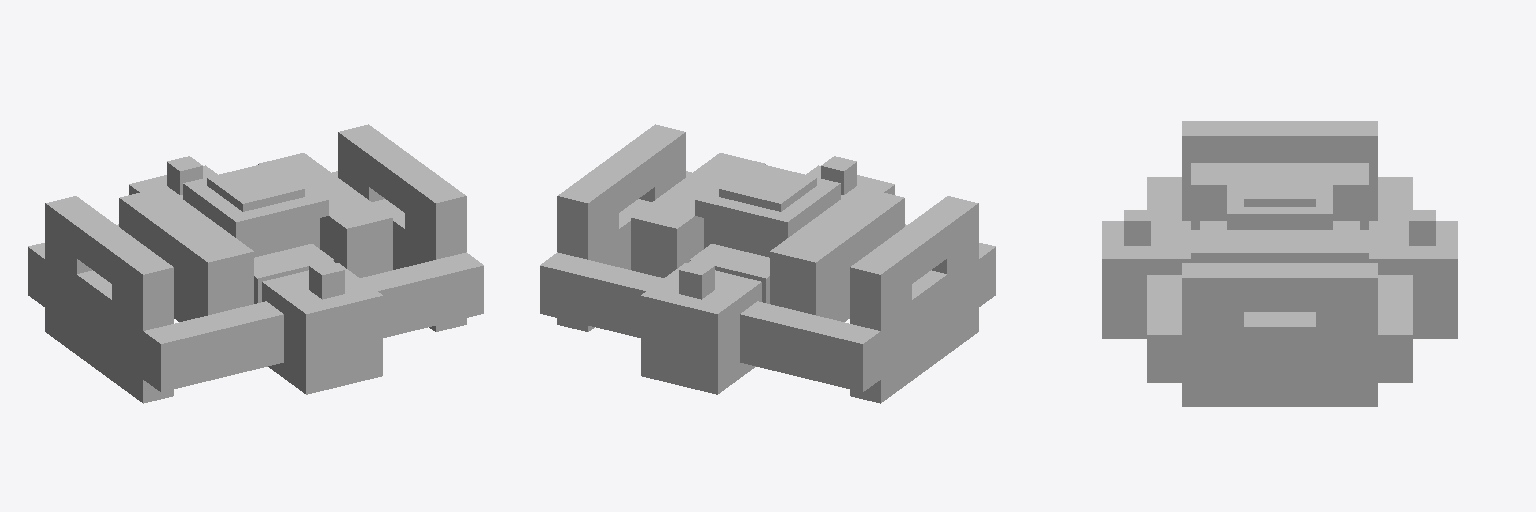
File: frame.obj
3 renders of one model, left to right at view 1: azimuth 30°, elevation 25°; view 2: azimuth 150°, elevation 25°; view 3: azimuth 270°, elevation 25°, orthographic.
Parts seen in each view (by area): view 1: cube_11, cube_3, cube_19, cube_7, cube_9, cube_13, cube_18, cube_1, cube_0, cube_15, cube_16, cube_17 (+8 smaller); view 2: cube_6, cube_2, cube_19, cube_7, cube_9, cube_13, cube_18, cube_1, cube_0, cube_15, cube_16, cube_17 (+8 smaller); view 3: cube_15, cube_13, cube_9, cube_2, cube_3, cube_18, cube_6, cube_11, cube_19, cube_1, cube_0, cube_12 (+4 smaller).
Part boxes in pixels (left/top/right/bottom): cube_11: left=143, top=252, right=483, bottom=391; cube_3: left=262, top=263, right=382, bottom=394; cube_19: left=119, top=186, right=253, bottom=321; cube_7: left=45, top=252, right=173, bottom=403; cube_9: left=45, top=196, right=173, bottom=306; cube_13: left=338, top=124, right=466, bottom=235; cube_18: left=258, top=153, right=392, bottom=277; cube_1: left=183, top=161, right=328, bottom=237; cube_0: left=207, top=163, right=304, bottom=211; cube_15: left=372, top=199, right=466, bottom=331; cube_16: left=254, top=244, right=333, bottom=303; cube_17: left=237, top=218, right=319, bottom=257; cube_6: left=540, top=252, right=880, bottom=391; cube_2: left=641, top=263, right=761, bottom=394; cube_19: left=770, top=186, right=904, bottom=321; cube_7: left=850, top=252, right=978, bottom=403; cube_9: left=850, top=196, right=978, bottom=306; cube_13: left=557, top=124, right=685, bottom=235; cube_18: left=631, top=153, right=765, bottom=277; cube_1: left=695, top=161, right=840, bottom=237; cube_0: left=719, top=163, right=816, bottom=211; cube_15: left=557, top=199, right=651, bottom=331; cube_16: left=690, top=244, right=769, bottom=303; cube_17: left=704, top=218, right=786, bottom=257; cube_15: left=1182, top=312, right=1377, bottom=406; cube_13: left=1182, top=263, right=1377, bottom=310; cube_9: left=1182, top=121, right=1377, bottom=167; cube_2: left=1369, top=221, right=1457, bottom=338; cube_3: left=1102, top=221, right=1190, bottom=338; cube_18: left=1191, top=230, right=1368, bottom=311; cube_6: left=1378, top=177, right=1412, bottom=382; cube_11: left=1147, top=177, right=1181, bottom=382; cube_19: left=1191, top=163, right=1368, bottom=229; cube_1: left=1227, top=169, right=1332, bottom=229; cube_0: left=1244, top=168, right=1315, bottom=206; cube_12: left=1316, top=311, right=1377, bottom=326.
Bounding box in the file's own units: 2.62 × 1.12 × 2.5.